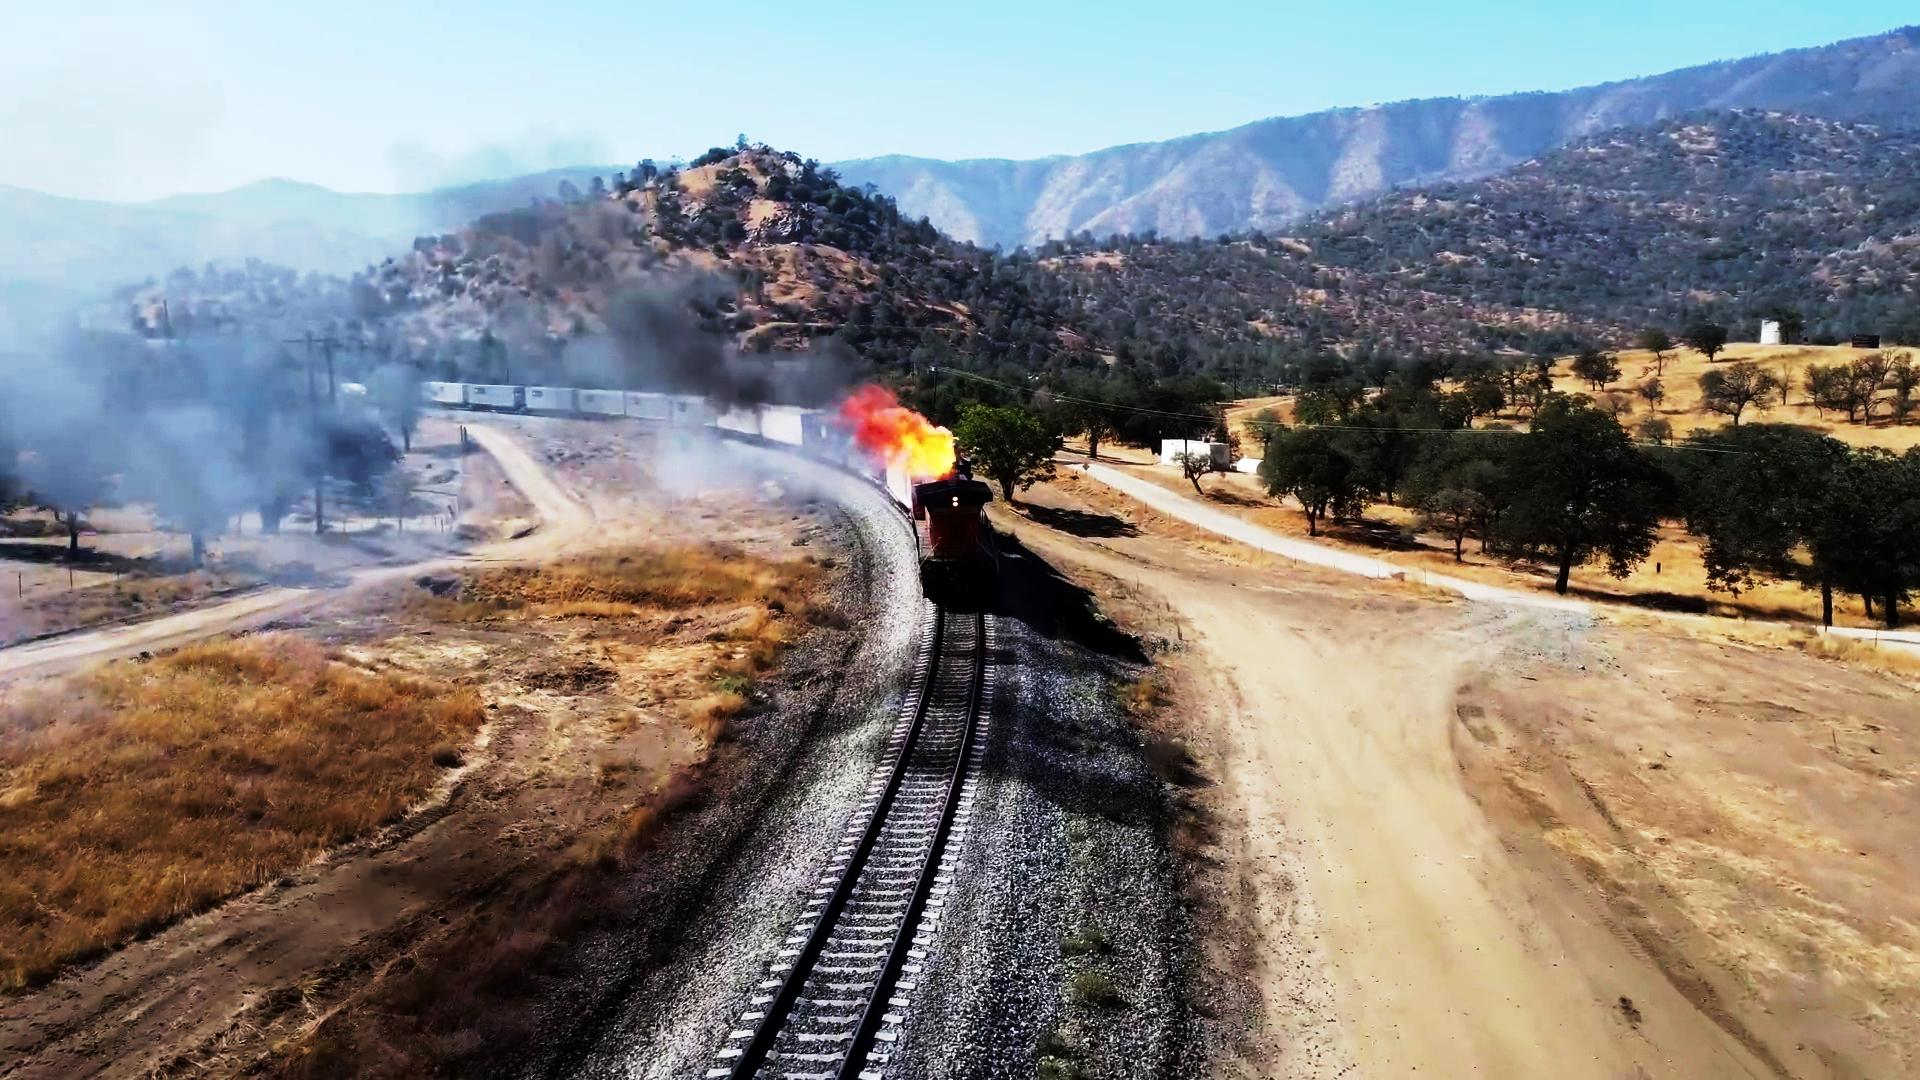fire: (848, 384, 961, 479)
smoke: (150, 310, 285, 509)
